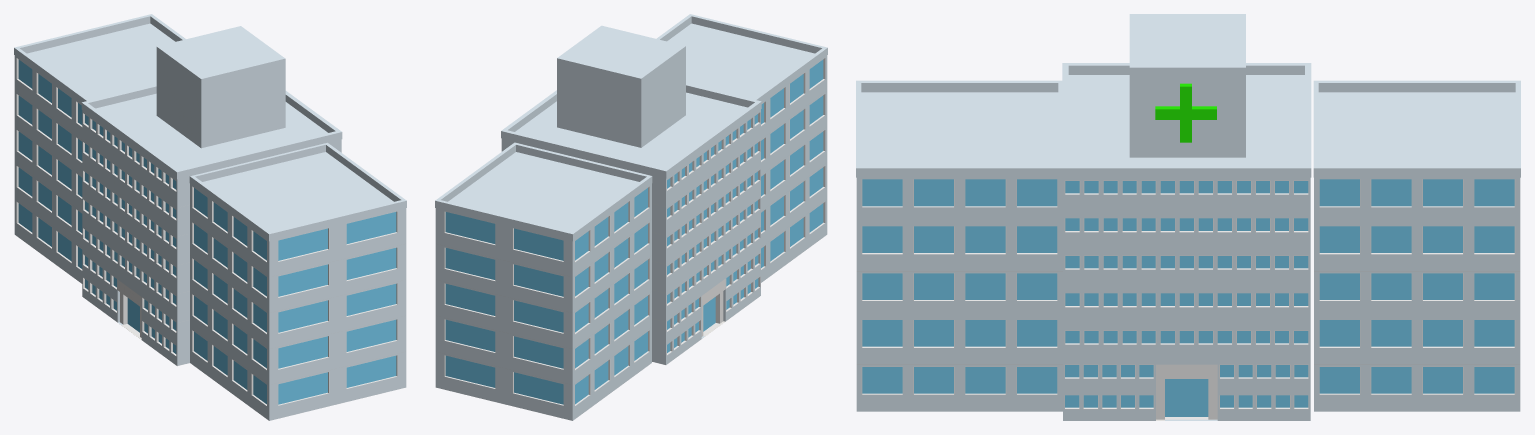
File: building16.fbx
3 renders of one model, left to right at view 1: azimuth 30°, elevation 25°; view 2: azimuth 150°, elevation 25°; view 3: azimuth 270°, elevation 25°, orthographic. The views are drawn at different scales.
Parts seen in each view (by area): view 1: building_019.001; view 2: building_019.001; view 3: building_019.001.
Boxes of the visible parts, <box> form: building_019.001: <box>14,14,406,420</box>; building_019.001: <box>435,14,827,420</box>; building_019.001: <box>856,14,1520,420</box>.
Bounding box in the file's own units: 24.12 × 35.71 × 64.43.
